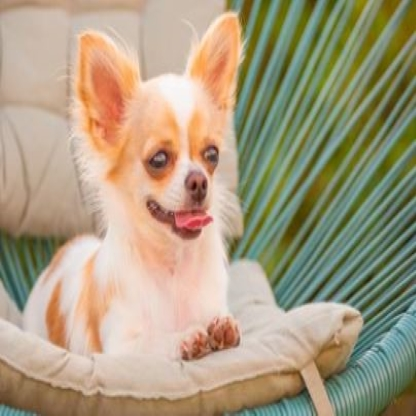chihuahua: (21, 11, 249, 363)
